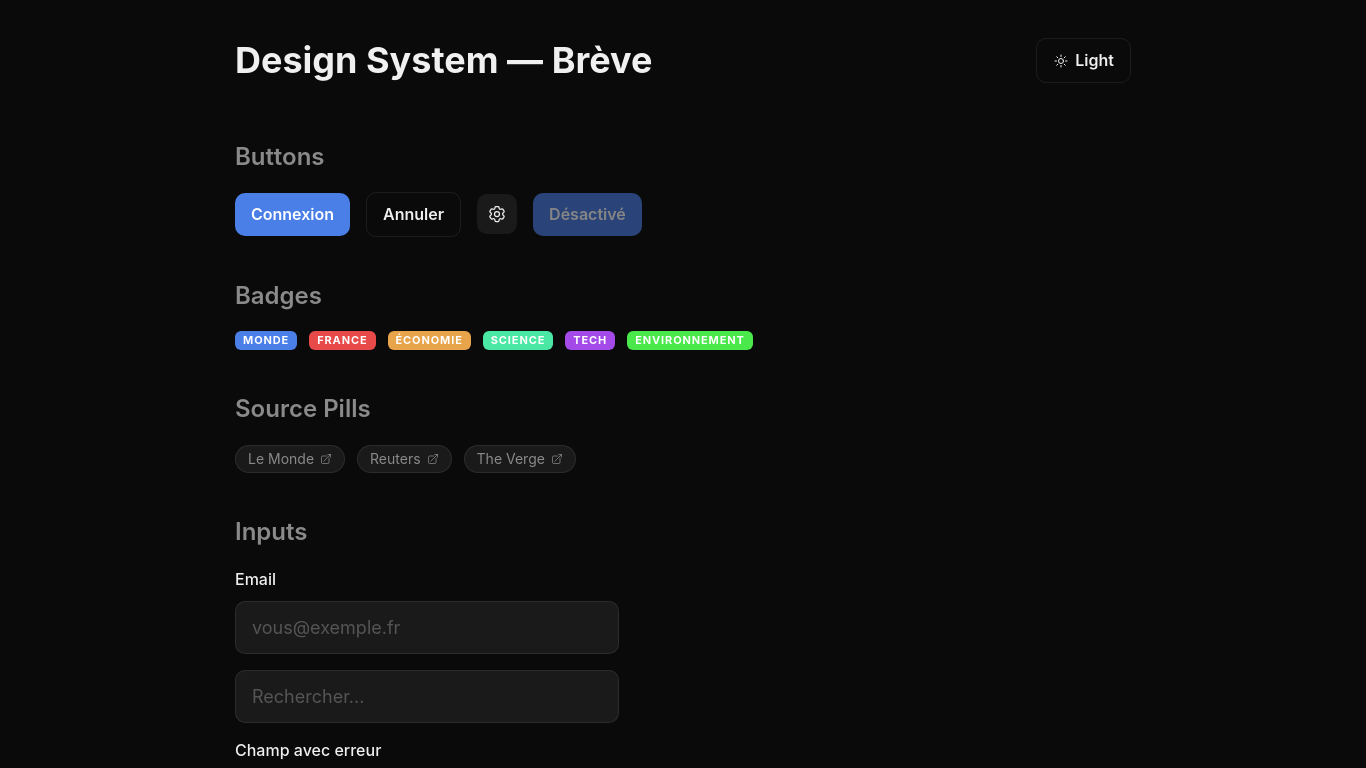
Test: DesignSystem › toggles theme on button click
Step 1. Click the button "Light" → {"x": 1084, "y": 61}, box [1036, 38, 1131, 83]
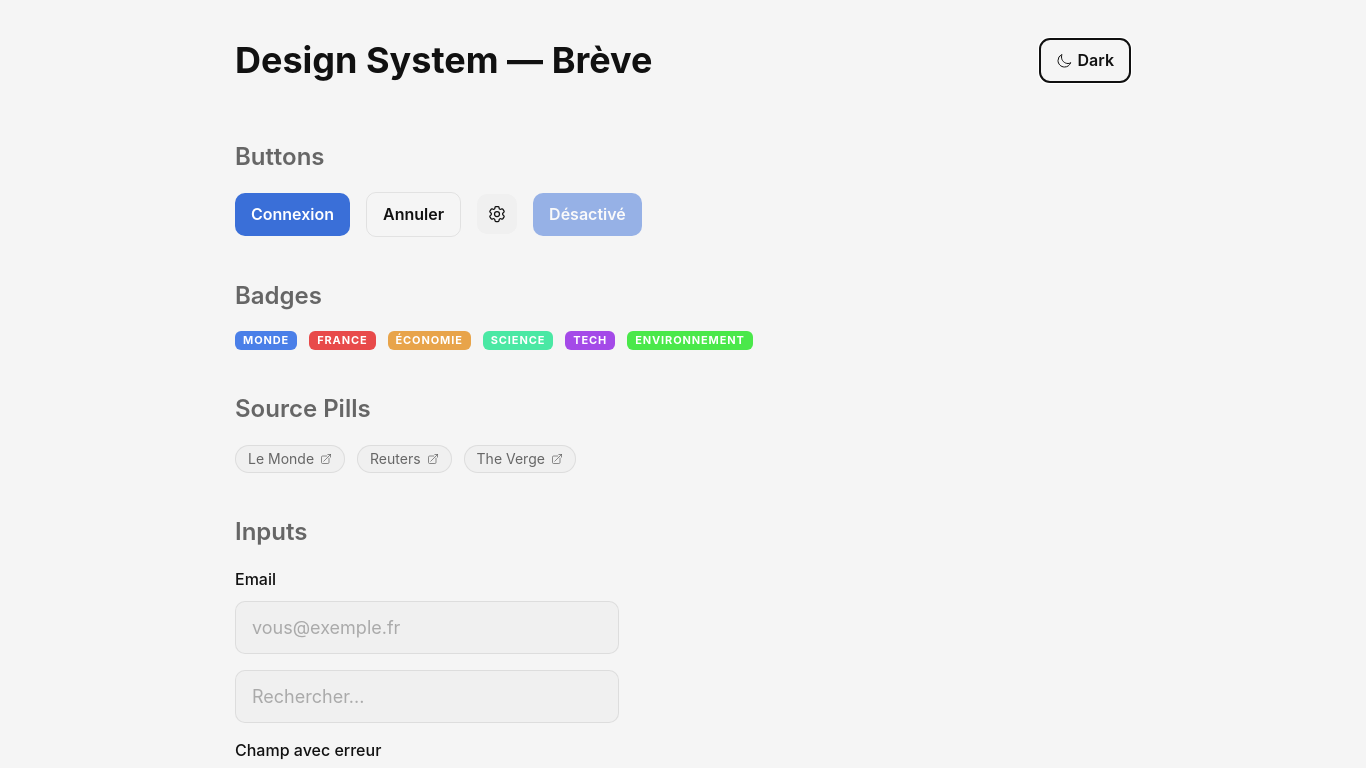
Expected: the button "Dark" is shown, [1038, 38, 1131, 83]
